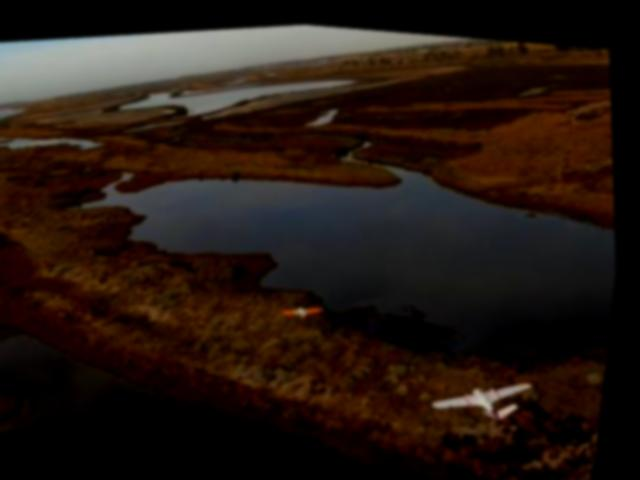uav: (432, 356, 551, 425), (285, 292, 334, 316)
